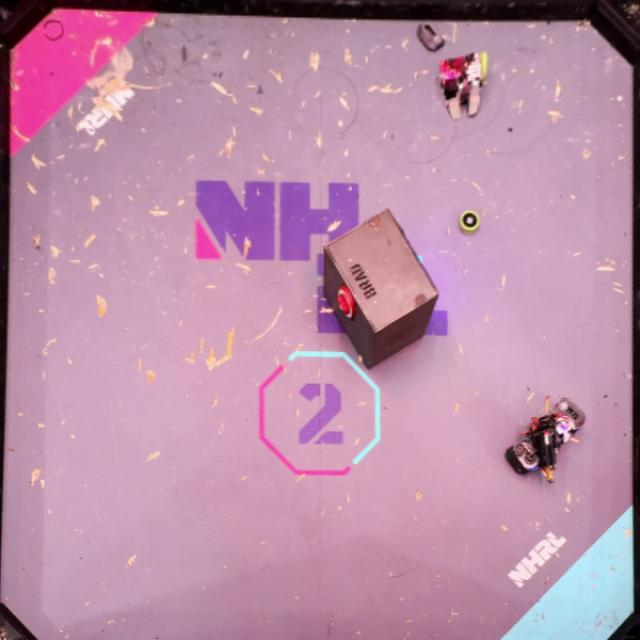housebot: (322, 206, 439, 370)
robot: (506, 393, 586, 484), (438, 51, 488, 120)
